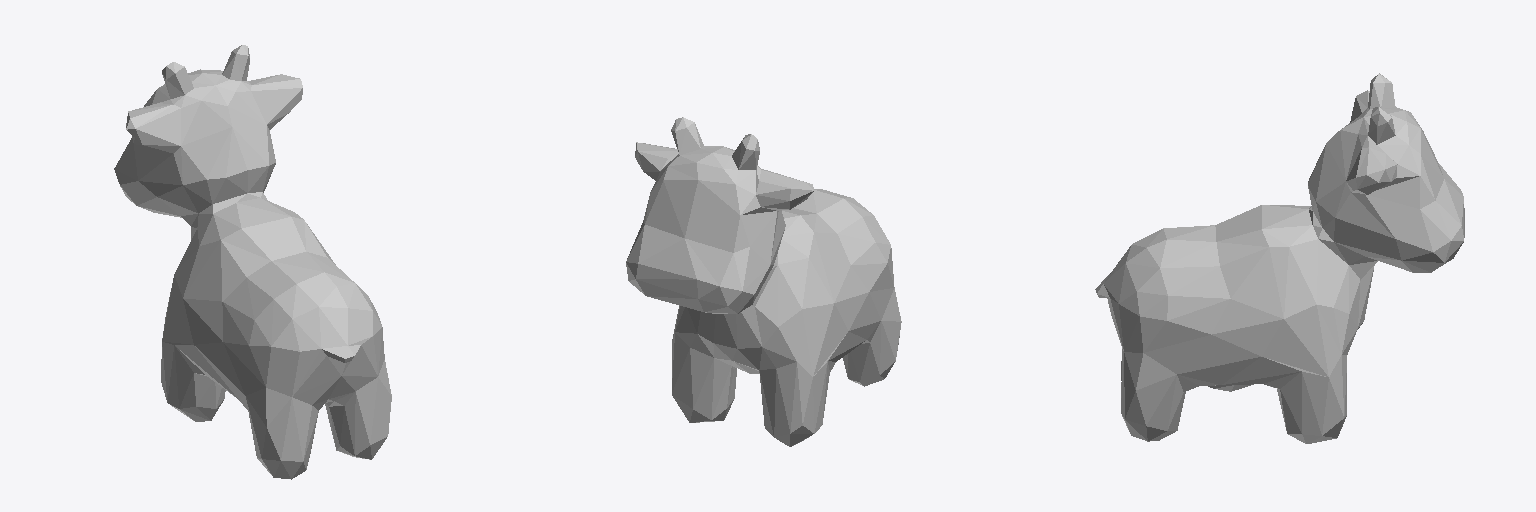
The model's file is spot_triangulated_lowpoly.obj.
The picture shows the model from 3 angles: view 1: azimuth 30°, elevation 25°; view 2: azimuth 150°, elevation 25°; view 3: azimuth 270°, elevation 25°; orthographic projection.
Parts seen in each view (by area): view 1: spot_triangulated; view 2: spot_triangulated; view 3: spot_triangulated.
Part boxes in pixels (bbox=[...]): spot_triangulated: bbox=[114, 45, 391, 479]; spot_triangulated: bbox=[626, 117, 901, 446]; spot_triangulated: bbox=[1095, 73, 1464, 443].
Bounding box in the file's own units: 0.9442 × 1.7 × 1.71.